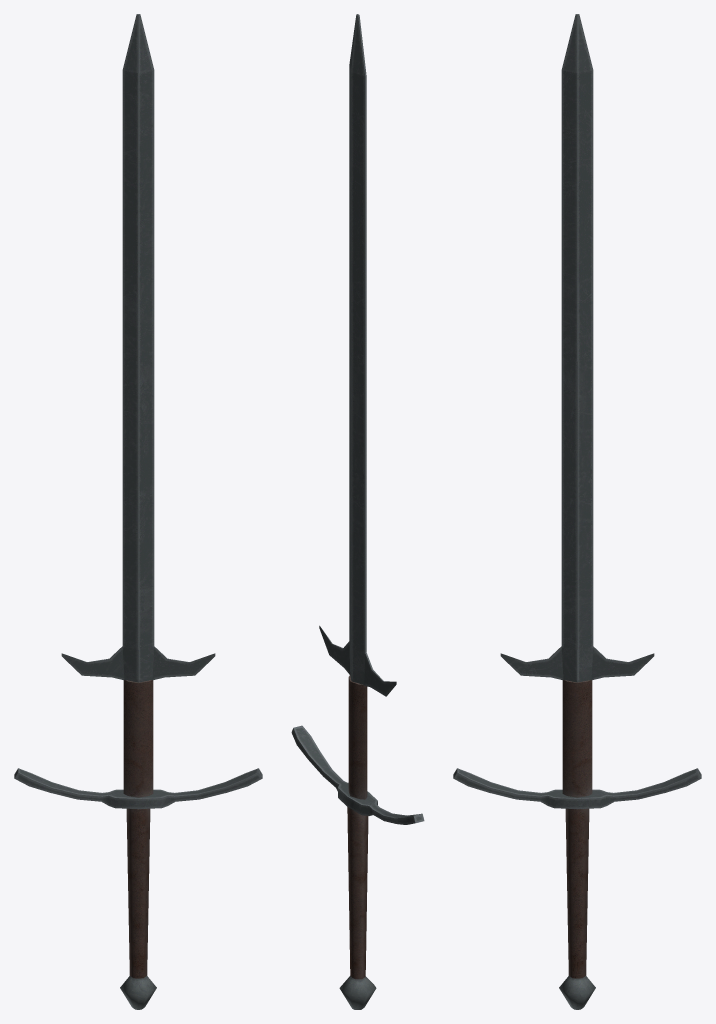
Rendered from zweinhander.glb.
The picture shows the model from 3 angles, left to right: view 1: azimuth 90°, elevation 25°; view 2: azimuth 210°, elevation 25°; view 3: azimuth 270°, elevation 25°; orthographic projection.
Visible parts, largest first — view 1: zweinhander; view 2: zweinhander; view 3: zweinhander.
Part boxes in pixels (left/top/right/bottom): zweinhander: left=14, top=14, right=262, bottom=1009; zweinhander: left=291, top=14, right=424, bottom=1009; zweinhander: left=453, top=14, right=701, bottom=1009.
Bounding box in the file's own units: 0.0939 × 2.82 × 0.6382.
Materials: 1 (1 with a texture image).
